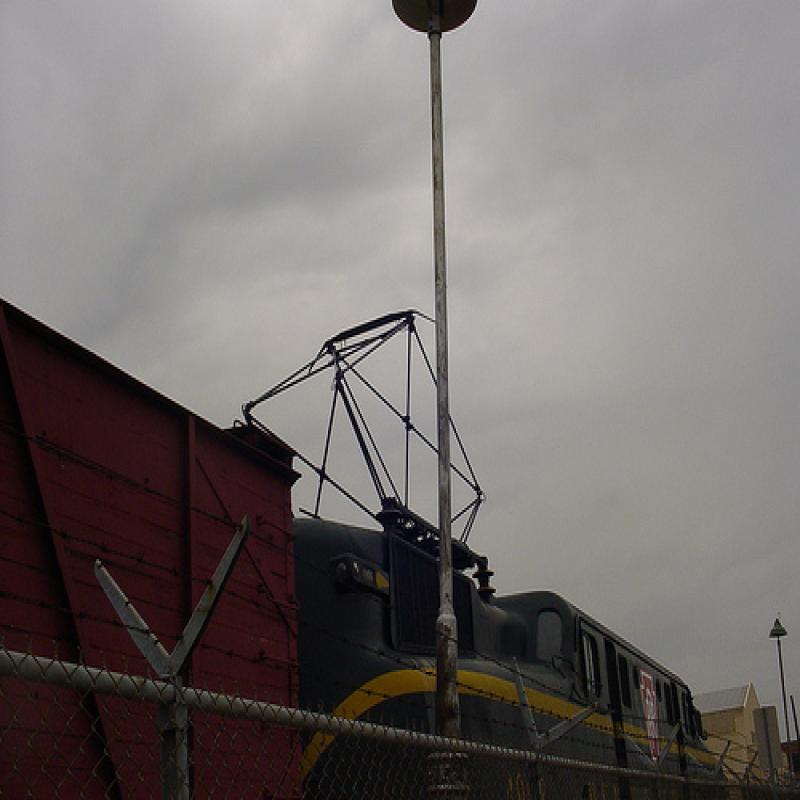train: (1, 291, 731, 799)
